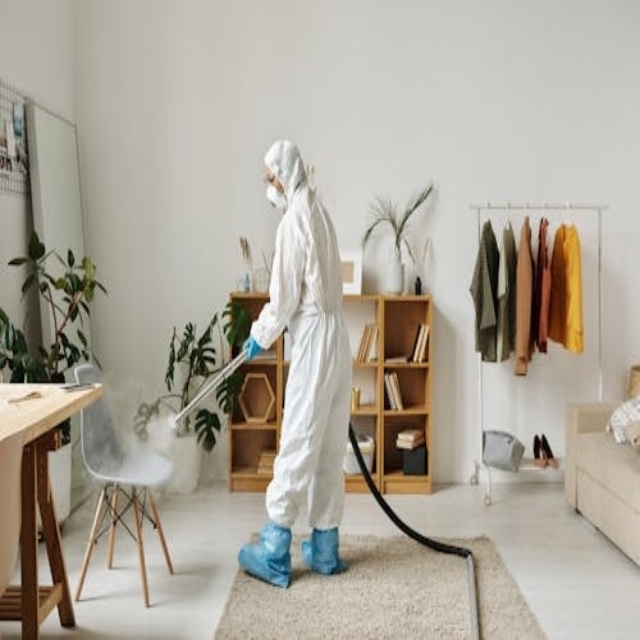Gafas: (263, 171, 276, 186)
Guantes: (242, 336, 263, 361)
Mascara: (265, 182, 283, 209)
